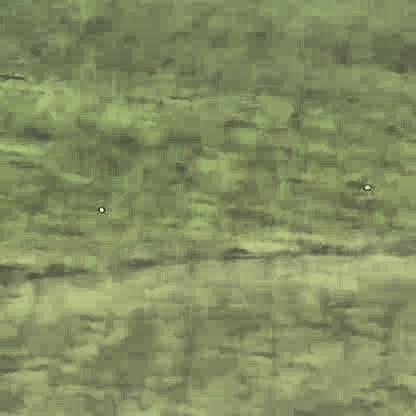golfball: (97, 205, 101, 209)
